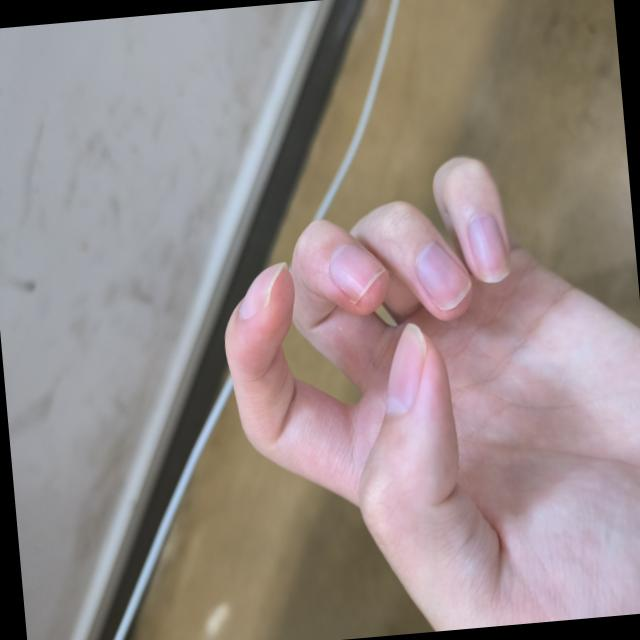Nail: (416, 239, 470, 309), (385, 322, 426, 412), (330, 242, 385, 302), (468, 211, 510, 282), (240, 260, 285, 316)
